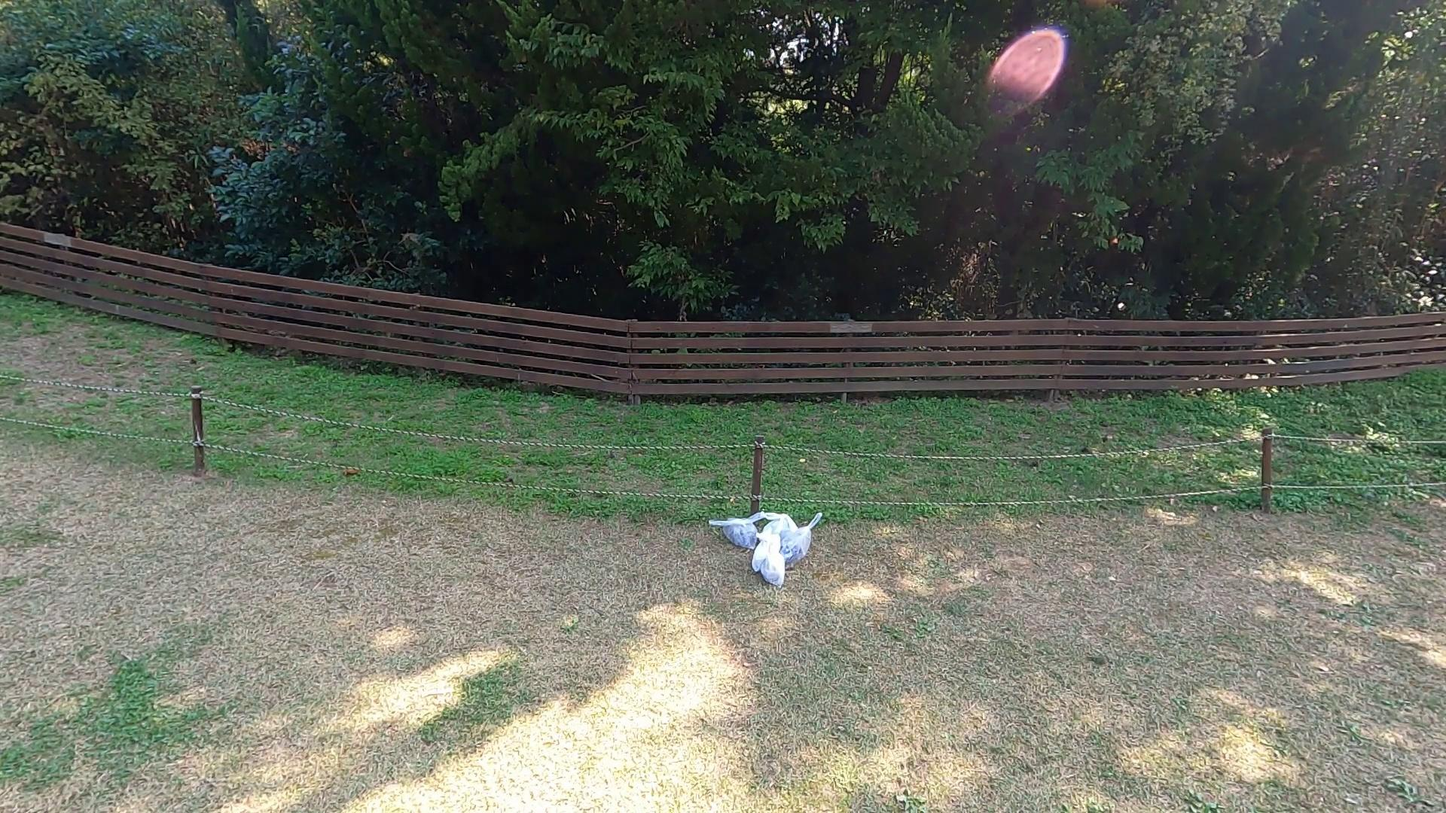trash: (752, 511, 799, 562), (778, 513, 823, 566), (750, 530, 786, 587), (709, 514, 764, 551)
